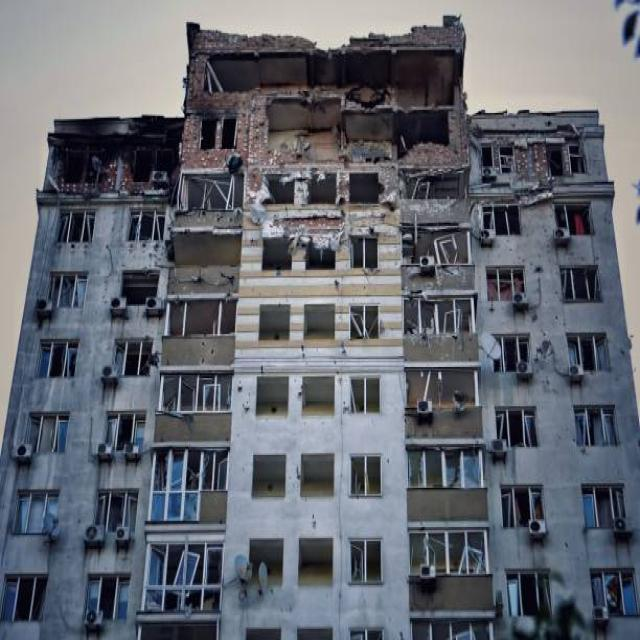building: (0, 12, 639, 638)
